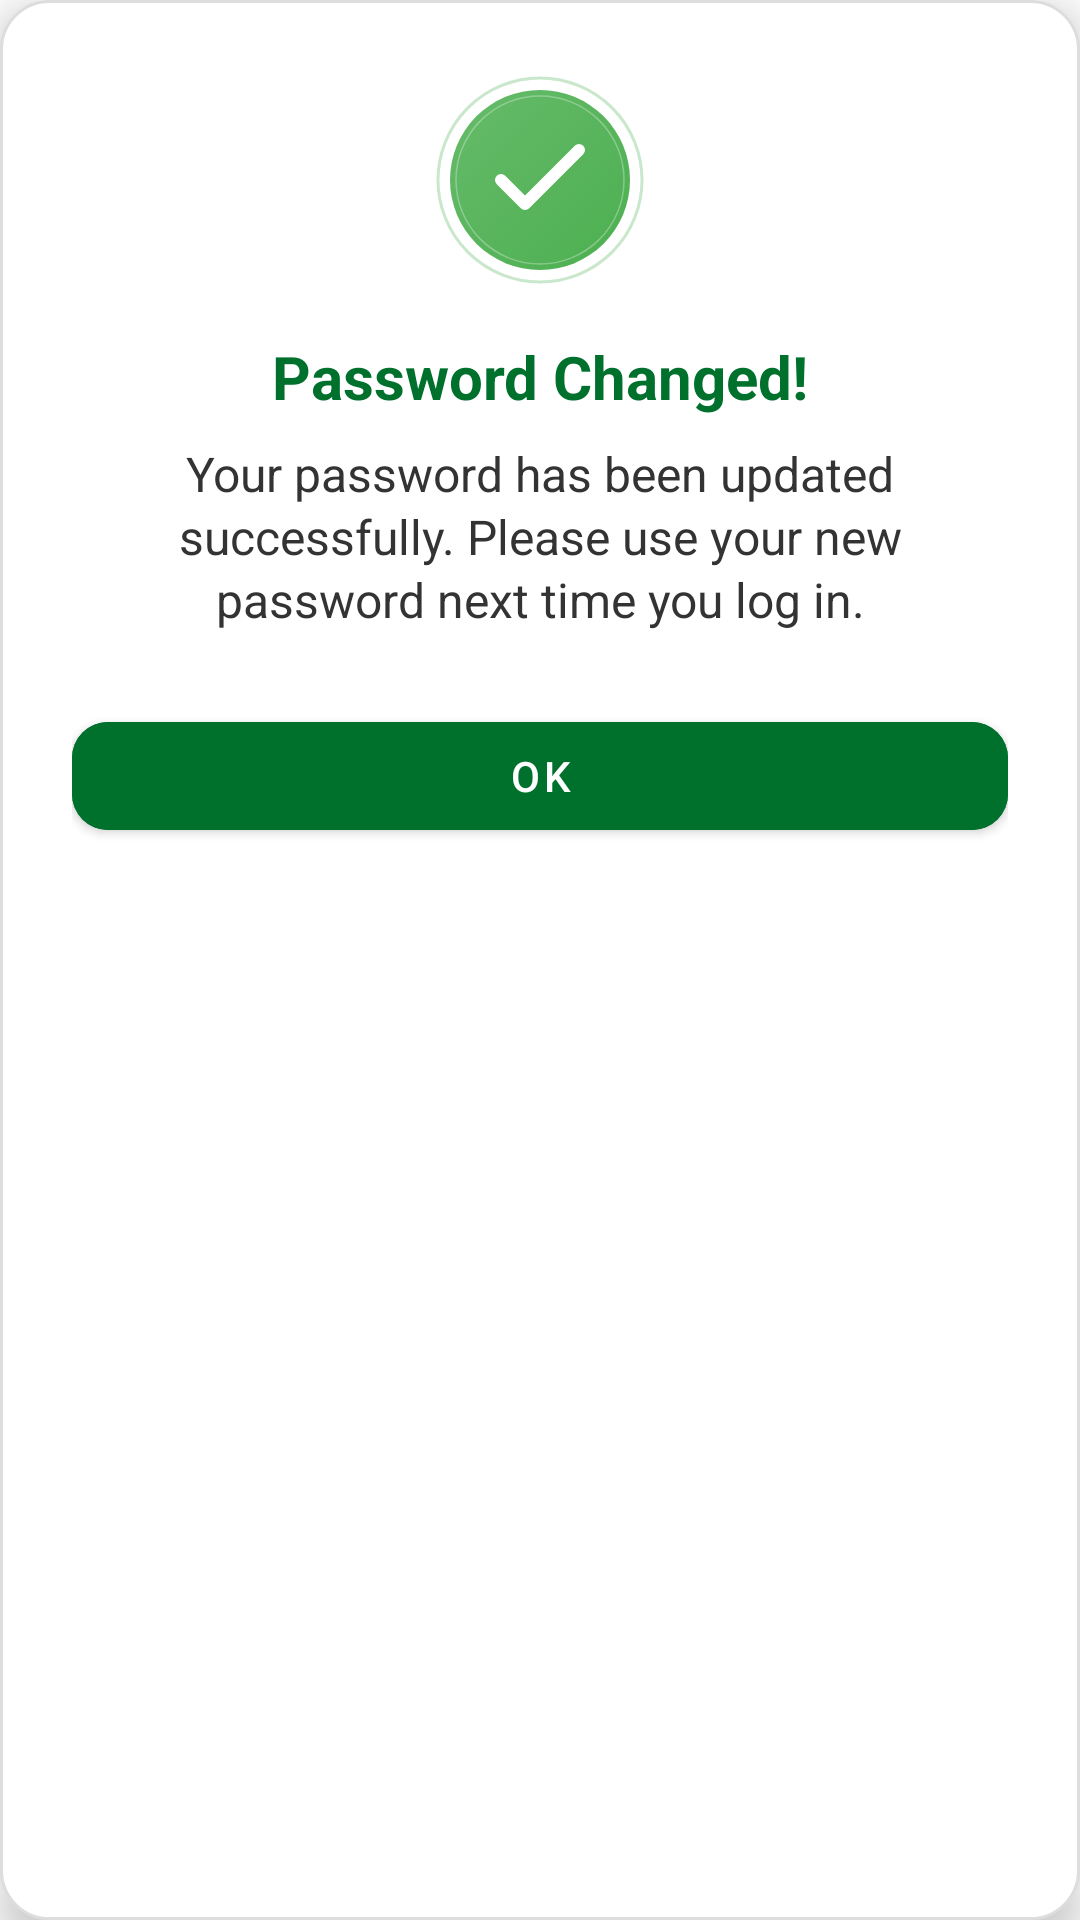

Screen size 1080 x 1920. Icon name, then its center in pixels as (x,y):
Success Icon: (540,180)
